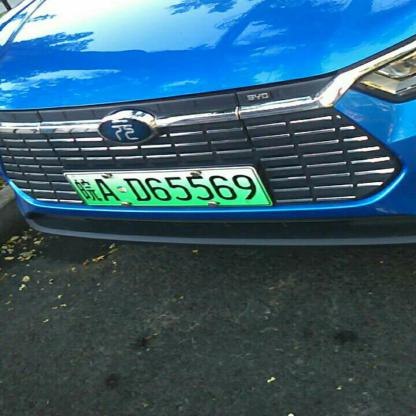lp: (65, 167, 270, 206)
